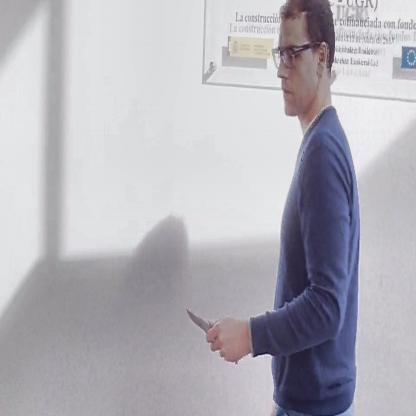knife: (182, 301, 239, 368)
